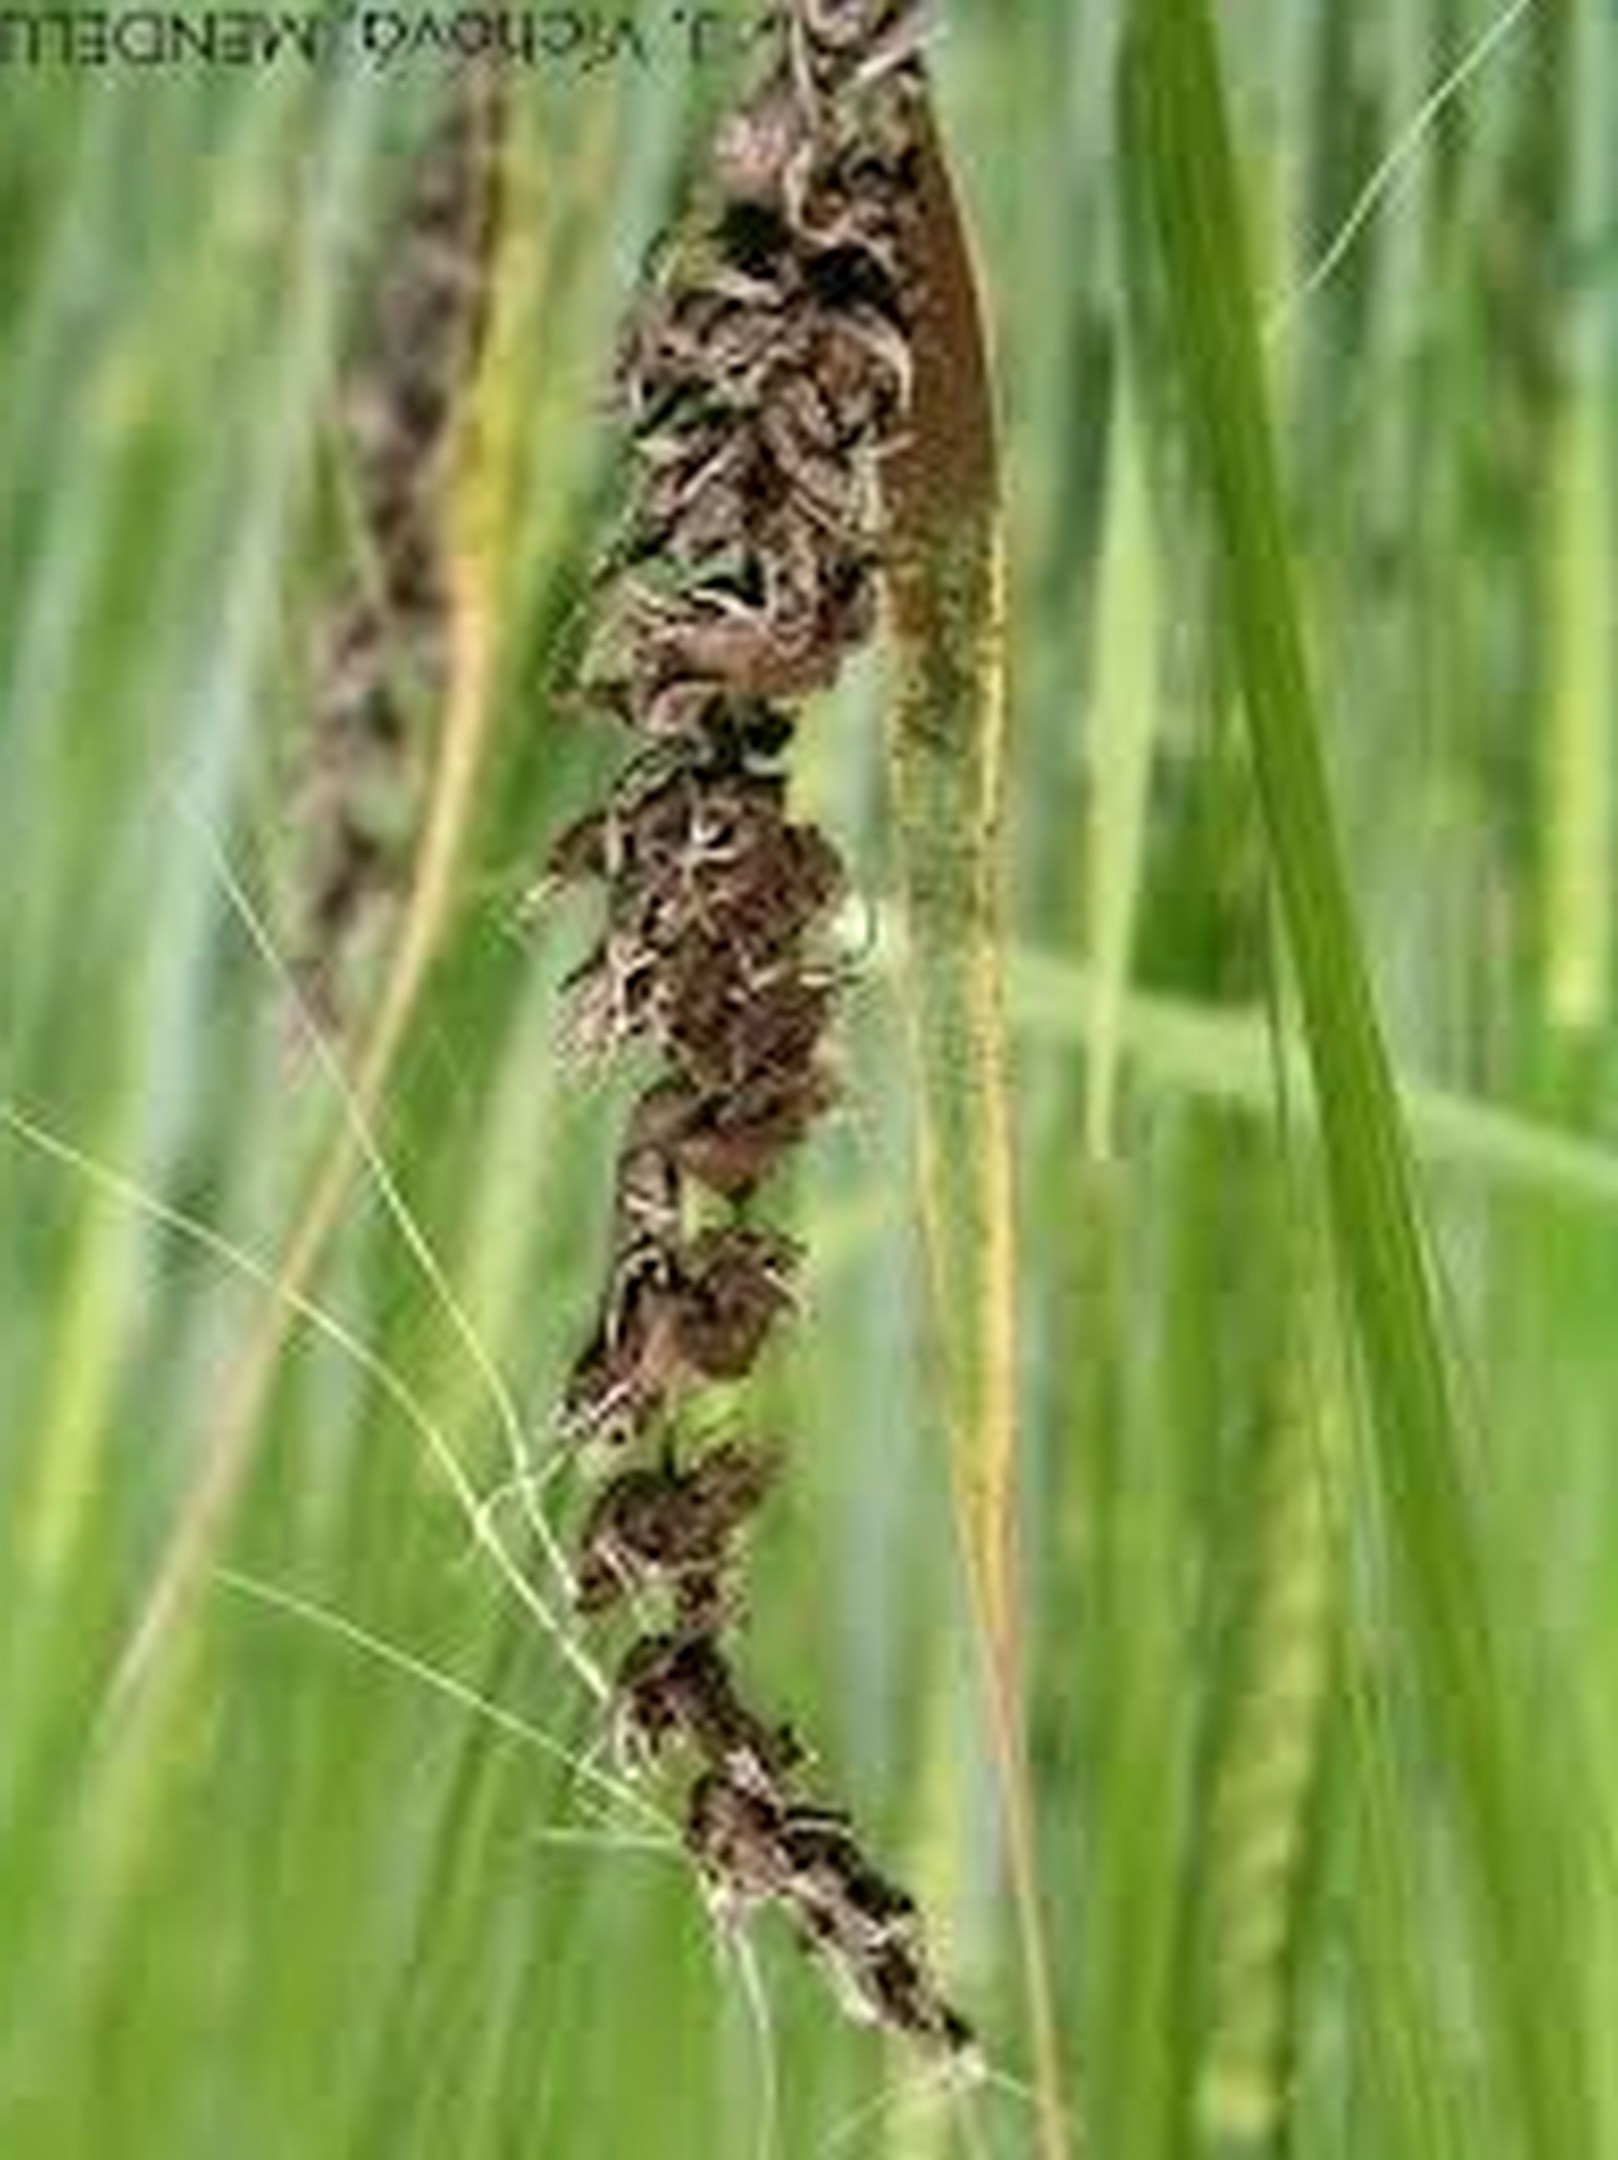Wheat Loose Smut: (478, 92, 1047, 2095)
